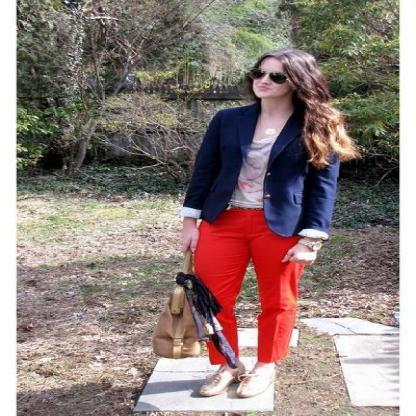bag: (137, 241, 209, 357)
jacket: (183, 96, 345, 247)
pants: (194, 205, 304, 364)
shirt: (228, 128, 280, 208)
shoe: (195, 358, 274, 396)
sunglass: (244, 58, 285, 91)
